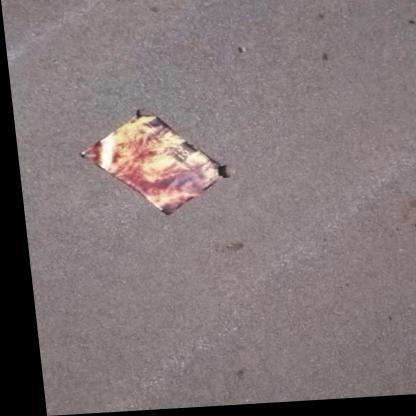fire-poster: (70, 107, 234, 223)
